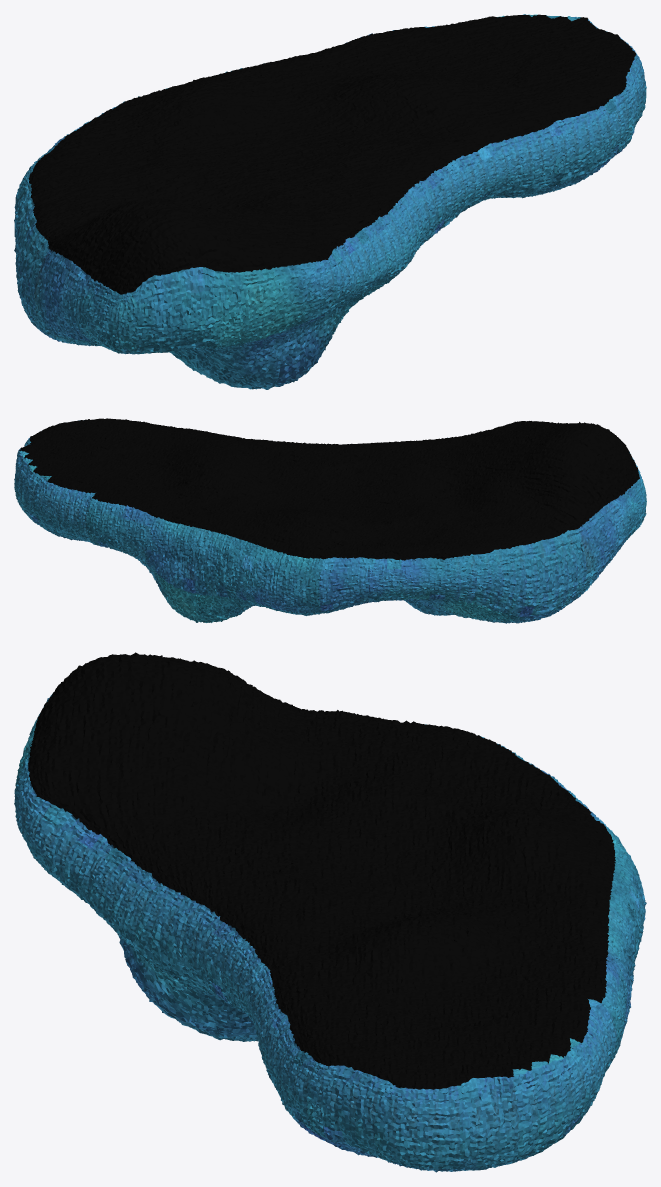
Rendered from highpoly temp.fbx.
The picture shows the model from 3 angles, top to bottom: view 1: azimuth 30°, elevation 25°; view 2: azimuth 150°, elevation 25°; view 3: azimuth 270°, elevation 25°; orthographic projection. The views are drawn at different scales.
Parts seen in each view (by area): view 1: plane; view 2: plane; view 3: plane.
Boxes of the visible parts, x1=… form: plane: x1=14, y1=14, x2=646, y2=389; plane: x1=14, y1=418, x2=646, y2=623; plane: x1=14, y1=652, x2=646, y2=1172.
Bounding box in the file's own units: 51827 × 17245 × 33887.
